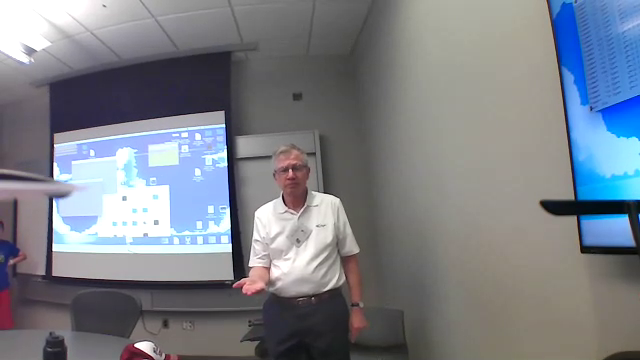land: (228, 273, 267, 298)
